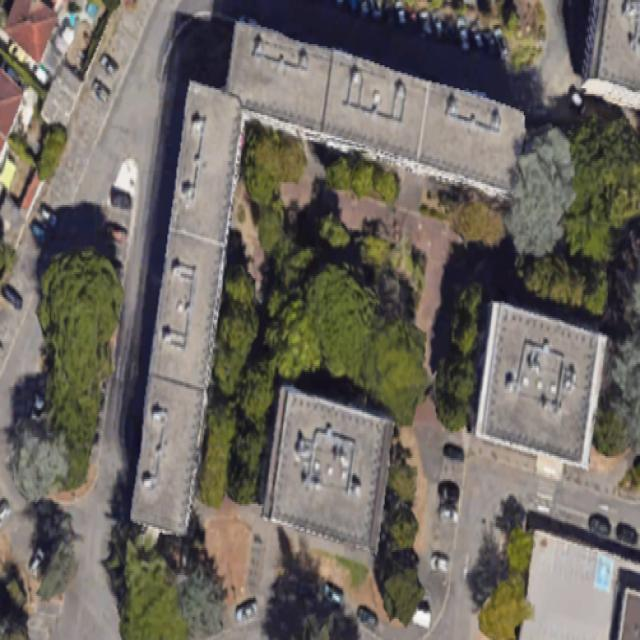immeuble: (210, 20, 533, 198), (125, 81, 249, 534), (470, 303, 608, 468), (261, 387, 394, 550), (583, 0, 639, 109)
maison: (0, 0, 63, 61), (0, 69, 22, 146)
